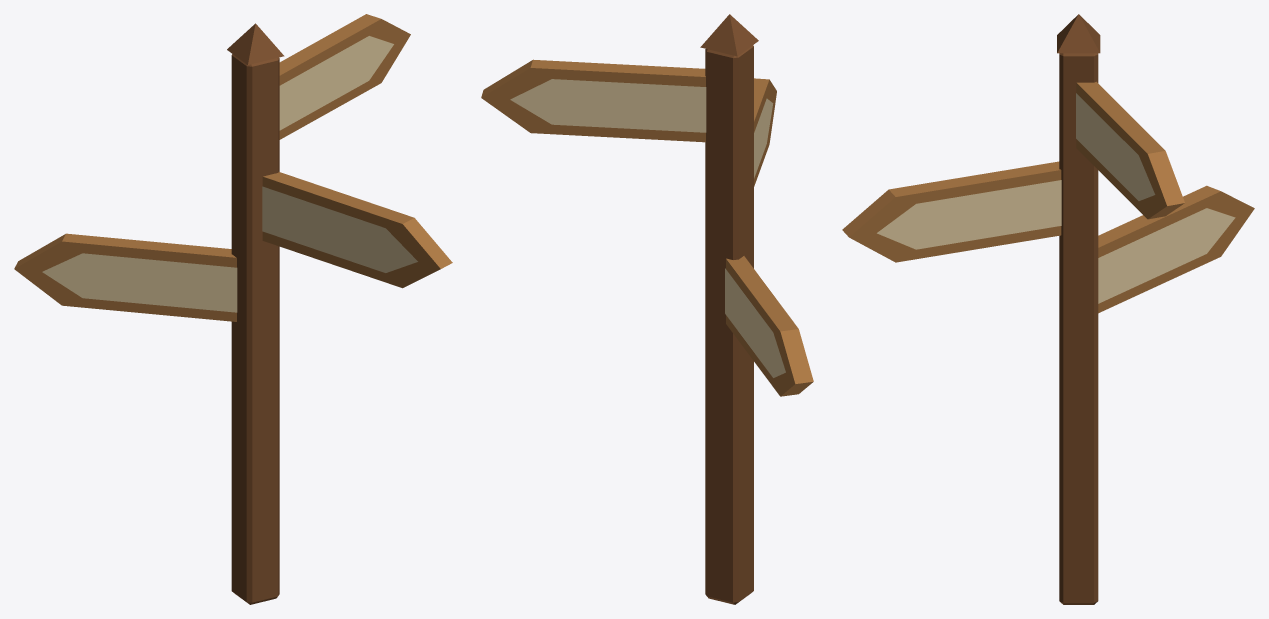
The model's file is vil_sign_post_v01.glb.
The picture shows the model from 3 angles, left to right: view 1: azimuth 30°, elevation 25°; view 2: azimuth 150°, elevation 25°; view 3: azimuth 270°, elevation 25°; orthographic projection. The views are drawn at different scales.
Visible parts, largest first — view 1: sign_pole, arrow_3, arrow_2, arrow_1; view 2: sign_pole, arrow_1, arrow_3, arrow_2; view 3: sign_pole, arrow_2, arrow_3, arrow_1.
Boxes of the visible parts, left/top/right/bottom form: sign_pole: left=227, top=23, right=284, bottom=604; arrow_3: left=14, top=233, right=237, bottom=321; arrow_2: left=262, top=172, right=452, bottom=288; arrow_1: left=279, top=14, right=410, bottom=139; sign_pole: left=700, top=14, right=758, bottom=604; arrow_1: left=481, top=59, right=706, bottom=142; arrow_3: left=725, top=256, right=813, bottom=396; arrow_2: left=754, top=78, right=776, bottom=186; sign_pole: left=1057, top=14, right=1100, bottom=604; arrow_2: left=842, top=161, right=1061, bottom=262; arrow_3: left=1098, top=185, right=1254, bottom=313; arrow_1: left=1076, top=81, right=1184, bottom=219.
Bounding box in the file's own units: 1.53 × 2.32 × 1.49.
